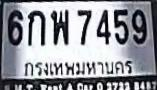4: (95, 8, 110, 44)
5: (113, 8, 128, 44)
6: (7, 9, 22, 45)
7: (76, 9, 91, 44)
9: (131, 8, 146, 43)
A01: (27, 9, 45, 45)
A30: (50, 9, 68, 44)
BKK: (19, 56, 139, 78)
